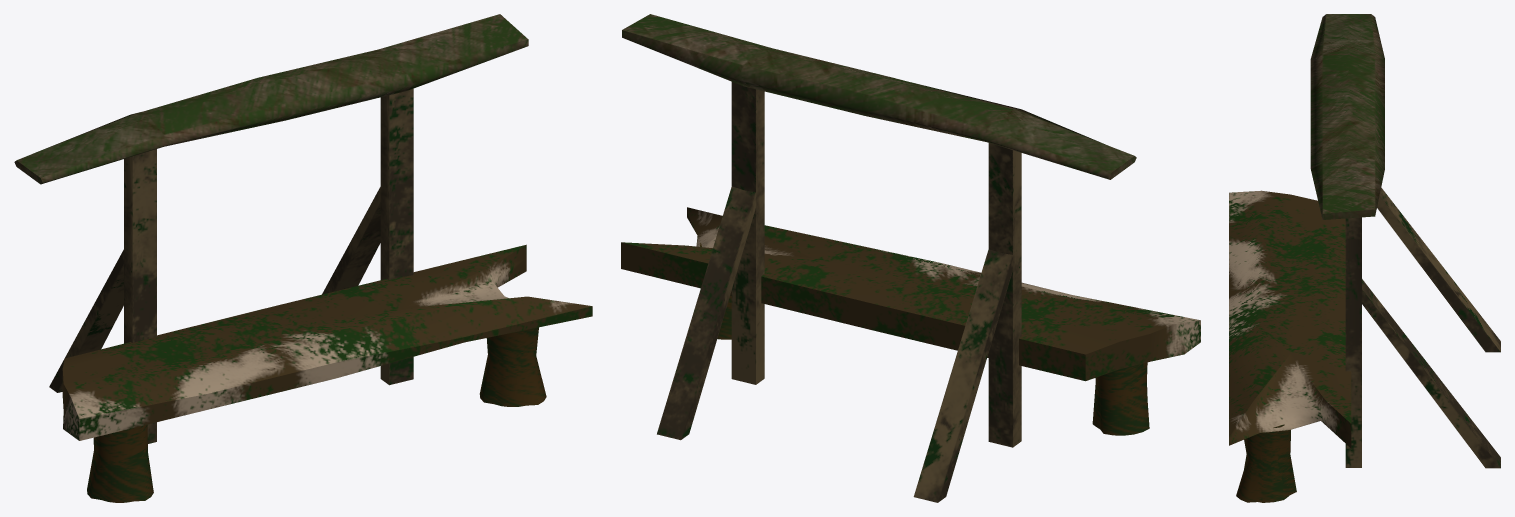
The model's file is banca-vieja.glb.
3 views of the same model, side by side, from view 1: azimuth 30°, elevation 25°; view 2: azimuth 150°, elevation 25°; view 3: azimuth 270°, elevation 25° (orthographic). The views are drawn at different scales.
Bounding box in the file's own units: 11.98 × 7.38 × 5.92.
5 materials, 5 textured.
